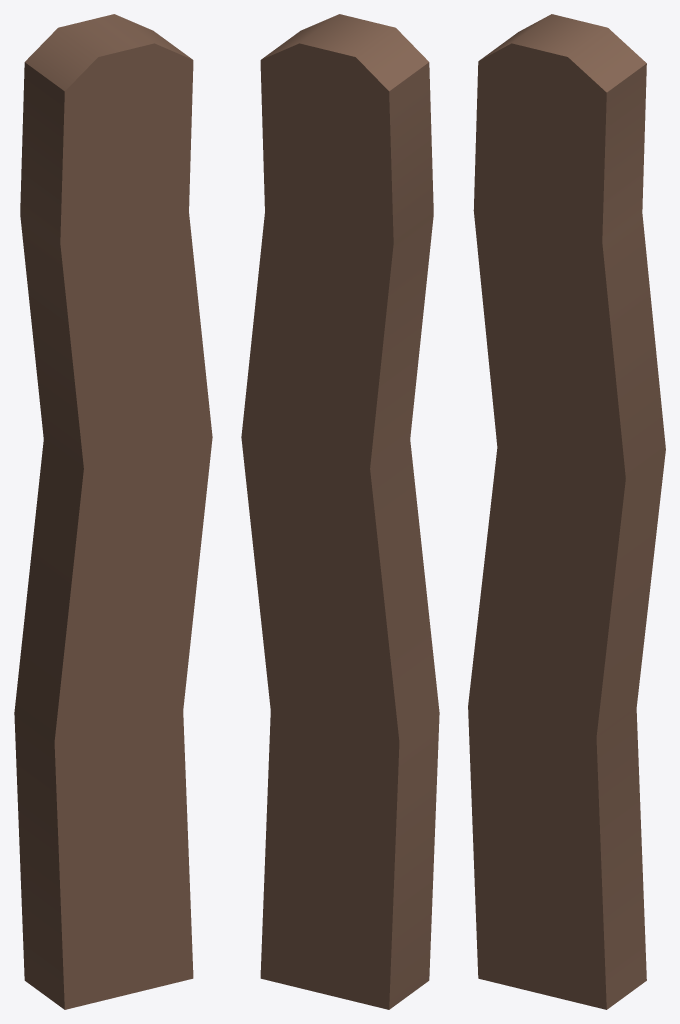
File: Fench_Corner.fbx
3 views of the same model, side by side, from view 1: azimuth 30°, elevation 25°; view 2: azimuth 150°, elevation 25°; view 3: azimuth 330°, elevation 25° (orthographic).
Visible parts, largest first — view 1: Fench_corner; view 2: Fench_corner; view 3: Fench_corner.
Boxes of the visible parts, left/top/right/bottom form: Fench_corner: left=14, top=14, right=212, bottom=1009; Fench_corner: left=241, top=14, right=439, bottom=1009; Fench_corner: left=468, top=14, right=665, bottom=1009.
Bounding box in the file's own units: 0.3923 × 2.24 × 0.1726.
